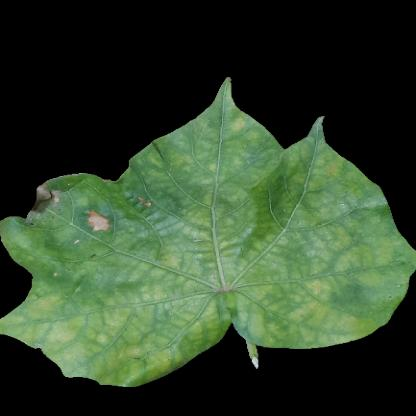curl_stage1: (47, 302, 219, 366), (264, 239, 400, 307), (161, 191, 262, 281), (40, 244, 155, 302), (163, 123, 255, 193), (278, 156, 354, 236), (244, 304, 359, 346), (132, 155, 164, 185)
